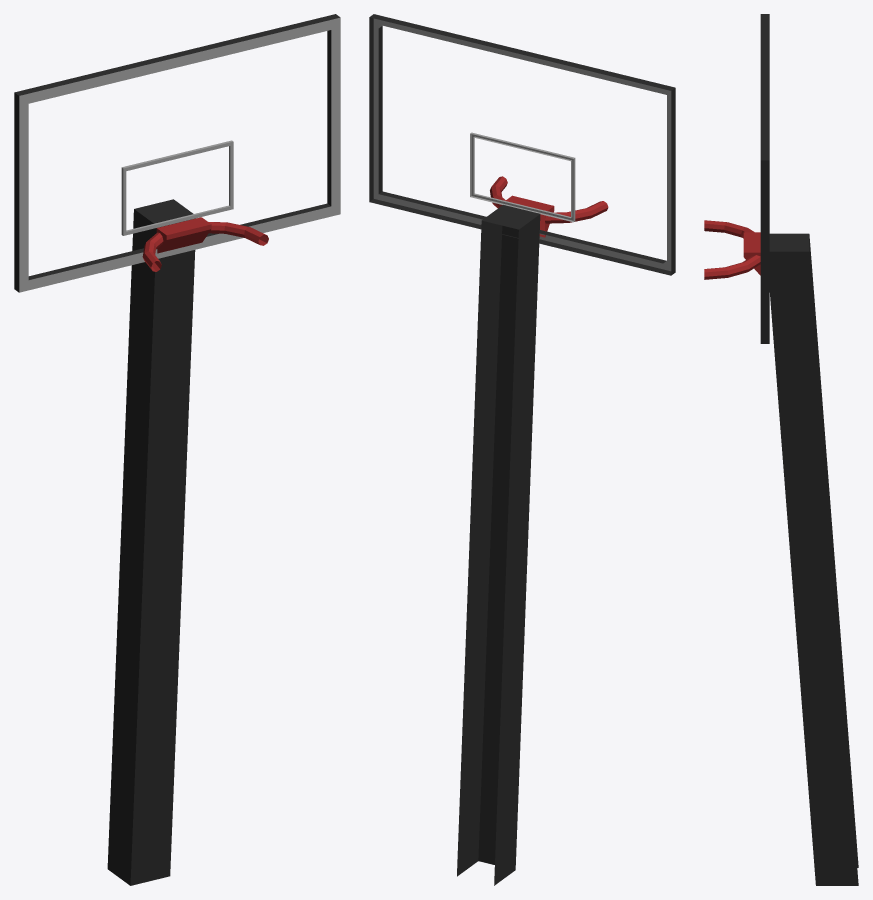
The model's file is hoop_back.obj.
3 renders of one model, left to right at view 1: azimuth 30°, elevation 25°; view 2: azimuth 150°, elevation 25°; view 3: azimuth 270°, elevation 25°, orthographic. The views are drawn at different scales.
Parts seen in each view (by area): view 1: Torus.001_Torus.005_#333333, Torus.001_Torus.005_#CCCCCC, Torus.001_Torus.005_#CC3333; view 2: Torus.001_Torus.005_#333333, Torus.001_Torus.005_#CCCCCC, Torus.001_Torus.005_#CC3333; view 3: Torus.001_Torus.005_#333333, Torus.001_Torus.005_#CC3333.
Boxes of the visible parts, x1,y1,x2,y2 form: Torus.001_Torus.005_#333333: (14, 14, 340, 885); Torus.001_Torus.005_#CCCCCC: (19, 17, 340, 292); Torus.001_Torus.005_#CC3333: (142, 217, 268, 271); Torus.001_Torus.005_#333333: (369, 14, 675, 885); Torus.001_Torus.005_#CCCCCC: (373, 18, 671, 271); Torus.001_Torus.005_#CC3333: (490, 176, 608, 237); Torus.001_Torus.005_#333333: (760, 14, 858, 885); Torus.001_Torus.005_#CC3333: (704, 220, 760, 279).
Bounding box in the file's own units: 6 × 15.09 × 2.67.
